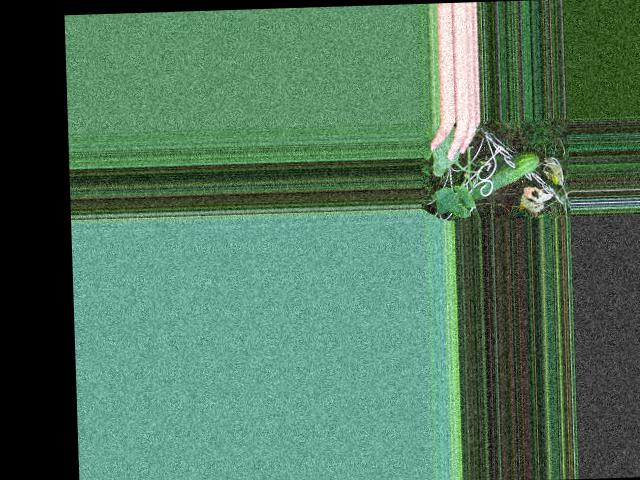cucumber: (469, 150, 540, 200)
